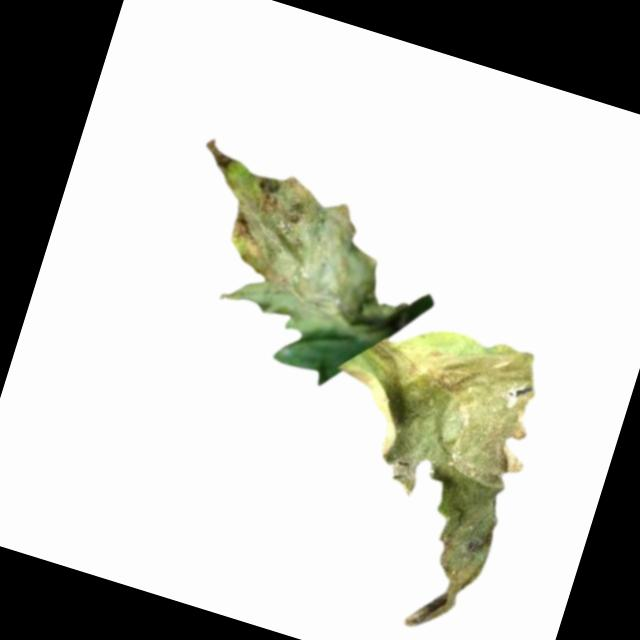Late_blight: (278, 298, 557, 640), (159, 135, 441, 368)
